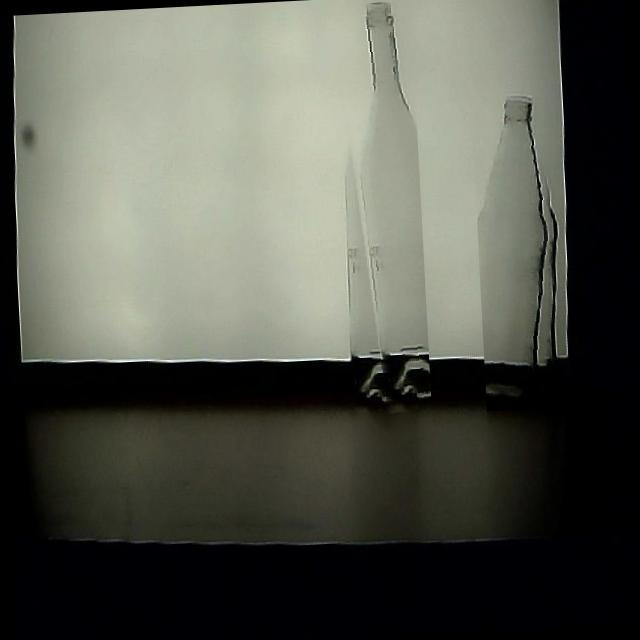Glass: (331, 1, 432, 416), (471, 92, 568, 412)
